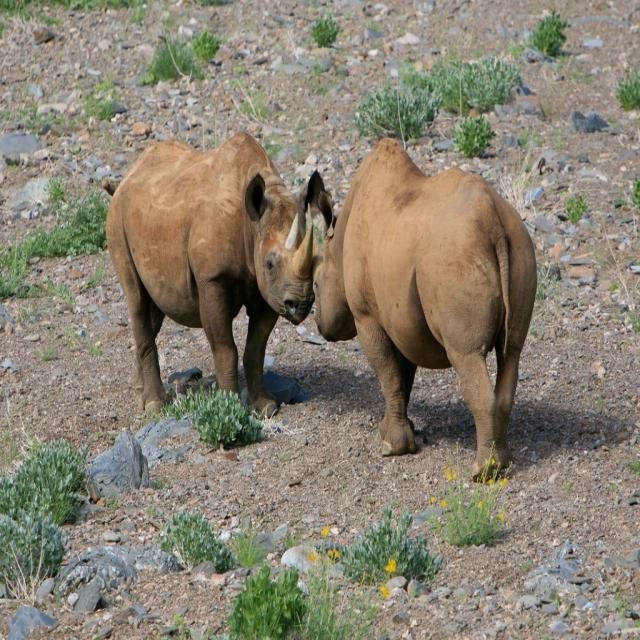rhino: (317, 52, 554, 523), (95, 92, 324, 472)
